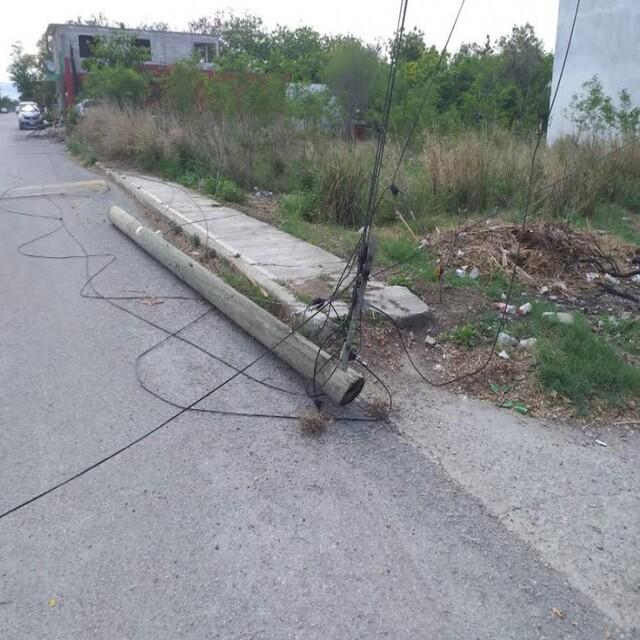Inclined Pole: (105, 204, 379, 415), (0, 179, 112, 199)
